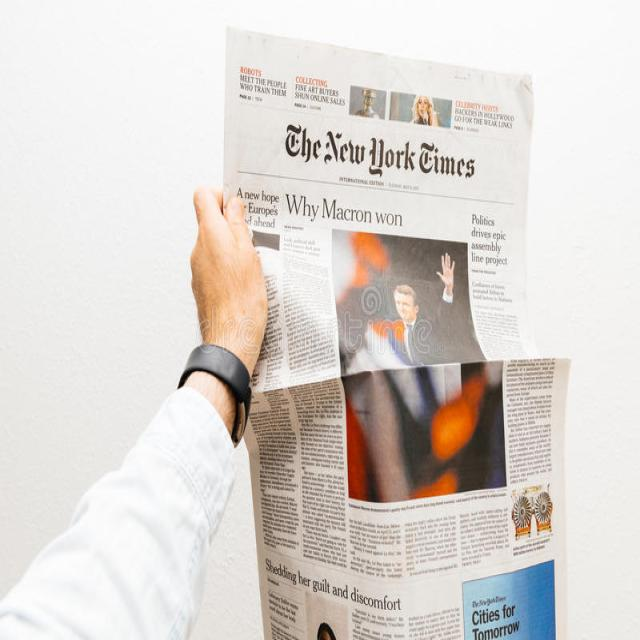newspaper: (229, 27, 569, 640)
